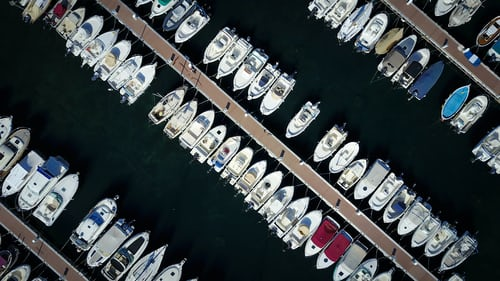yacht: (73, 194, 112, 248), (208, 28, 232, 66)
